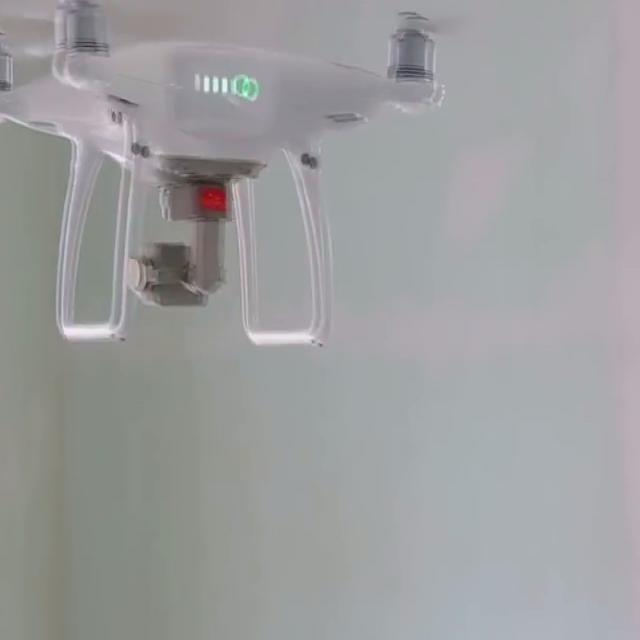drone: (0, 0, 510, 236)
